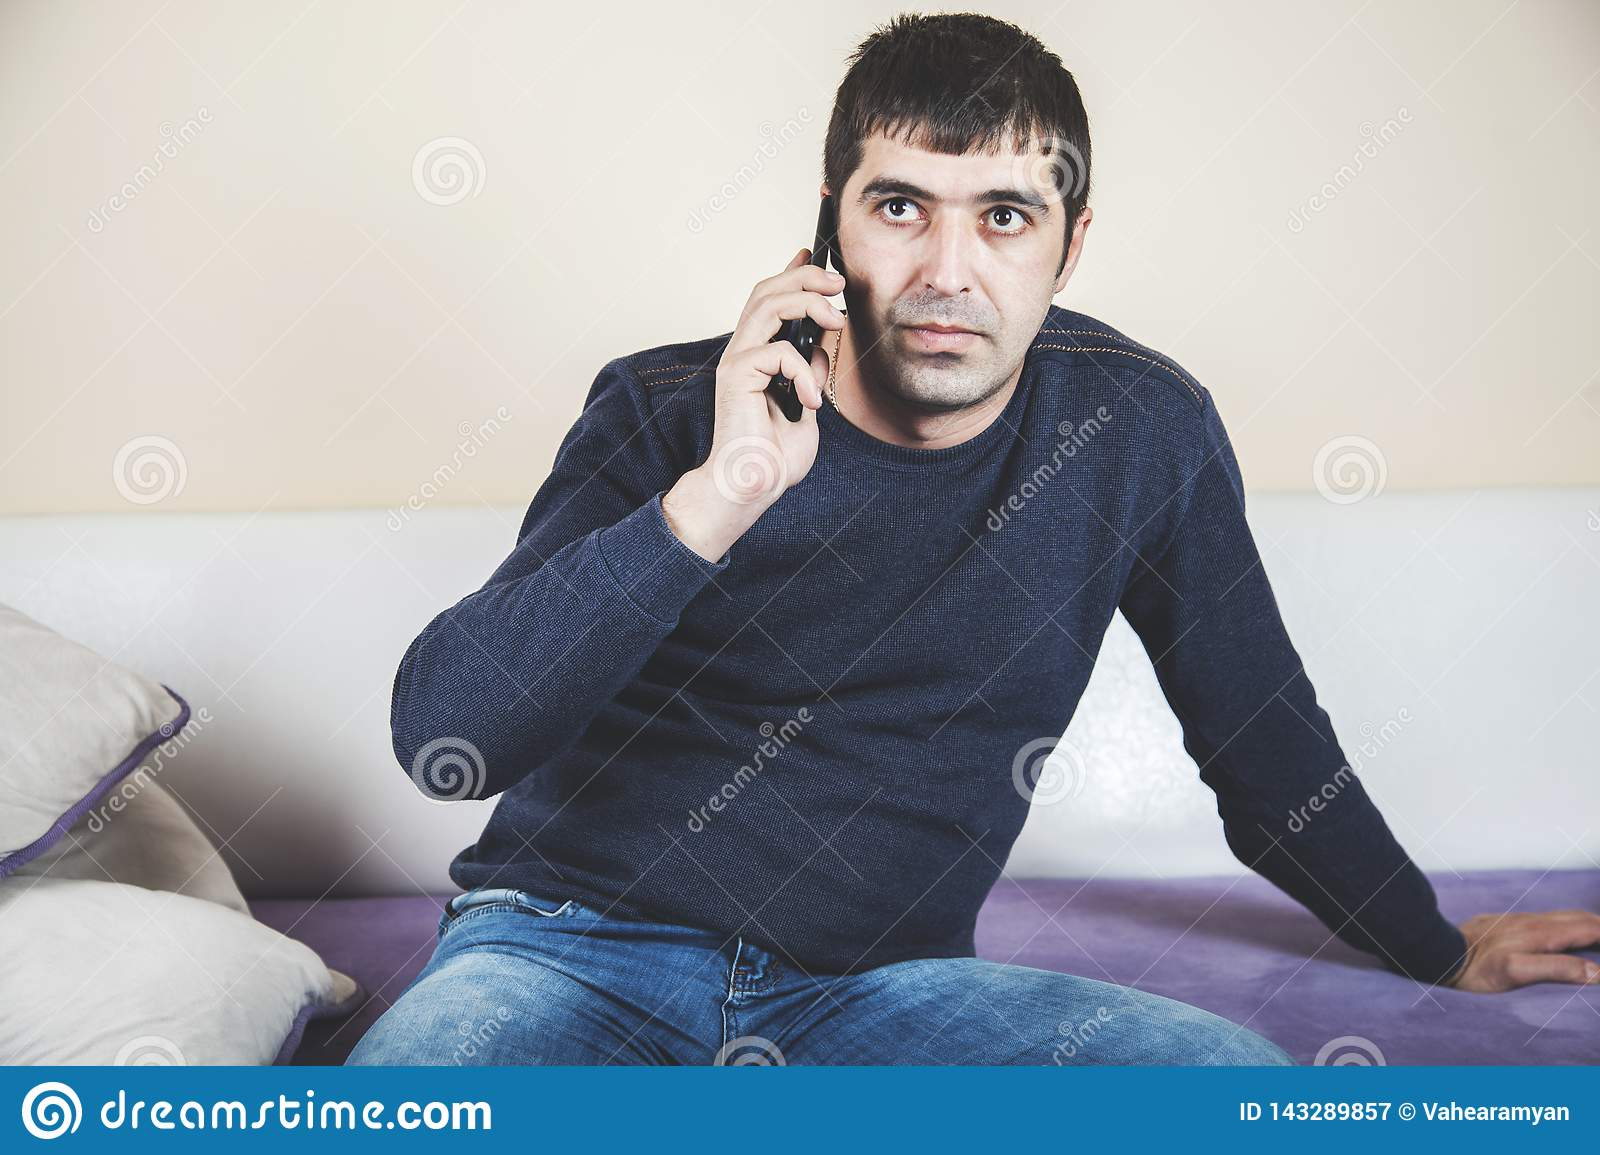phone: (768, 185, 845, 422)
talk: (698, 147, 1051, 508)
